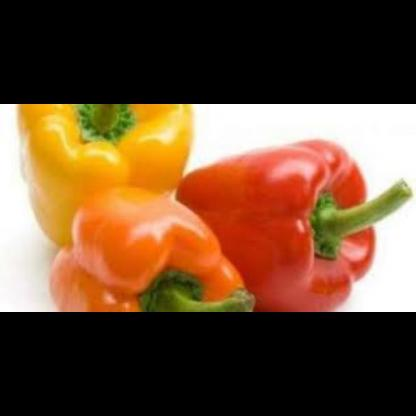bell pepper: (170, 138, 413, 312), (11, 104, 197, 246), (48, 187, 245, 311)
